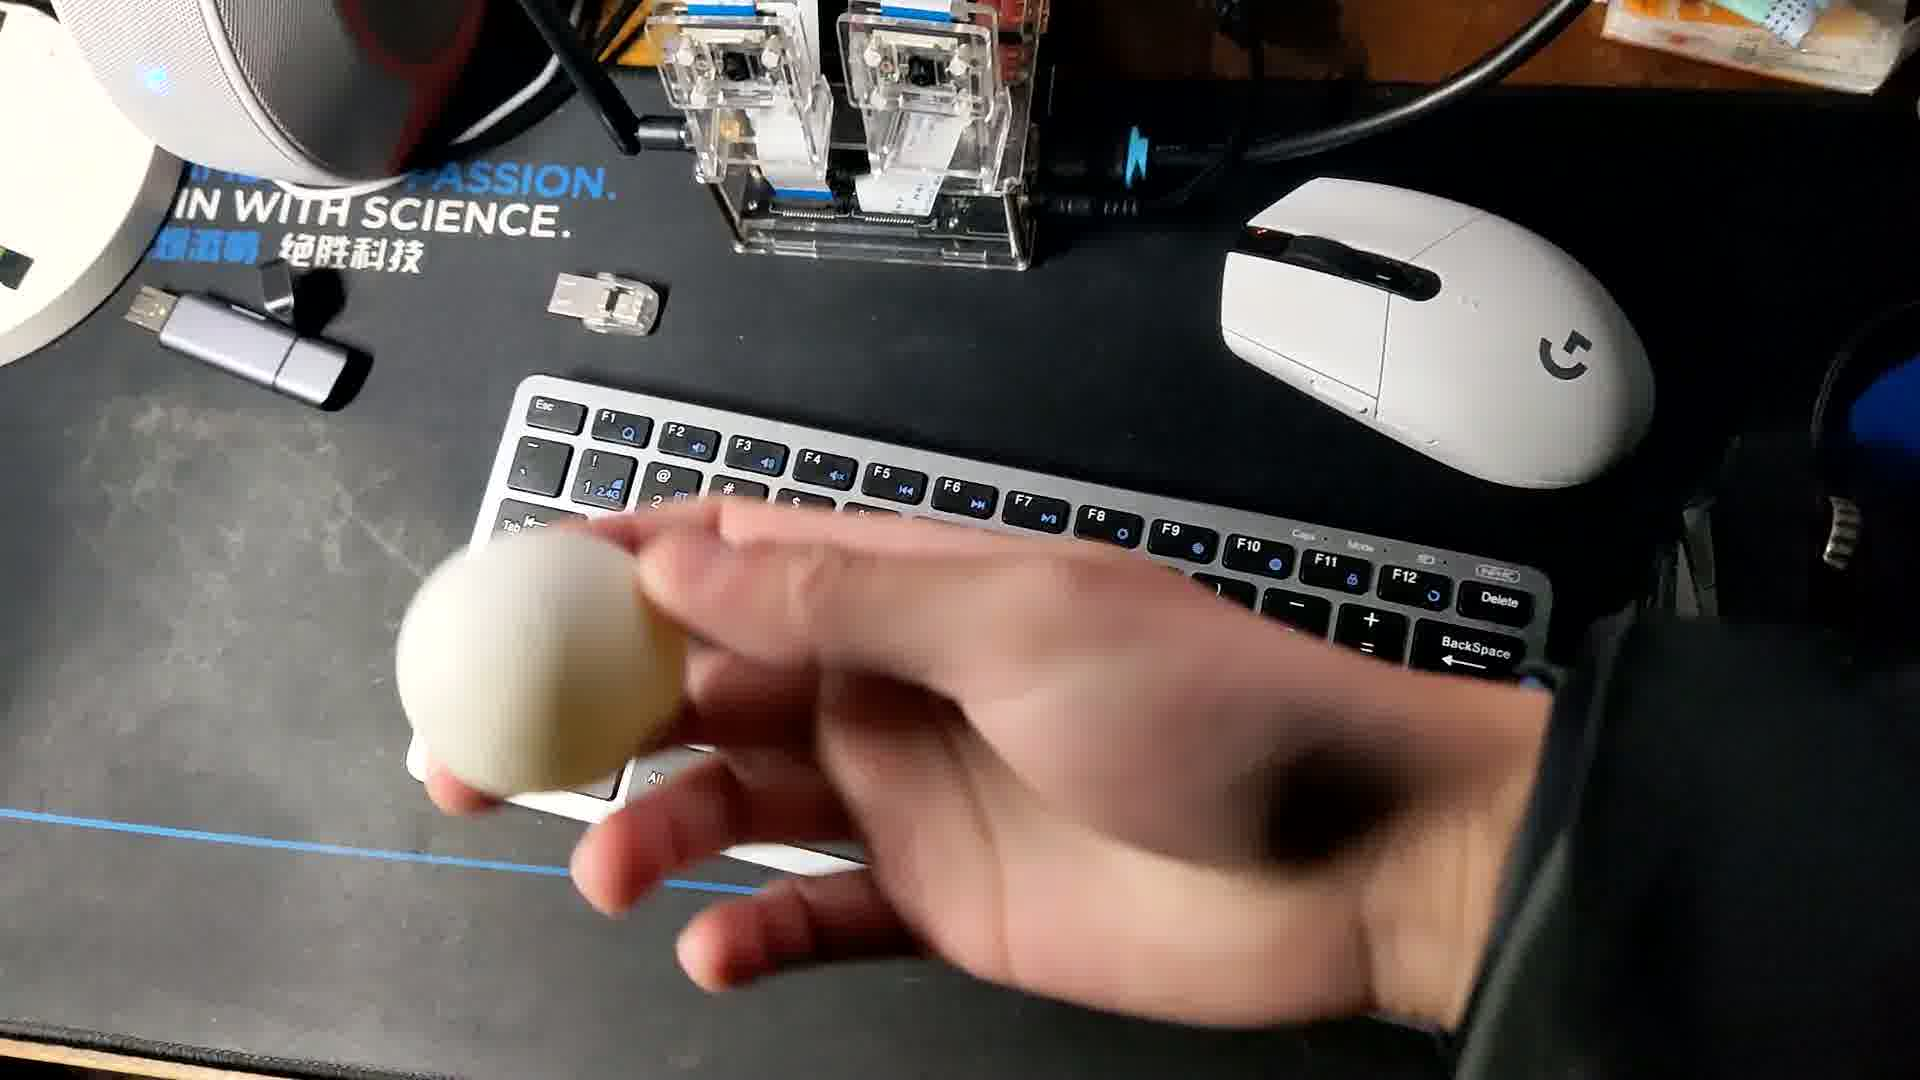Ball: (388, 531, 691, 802)
